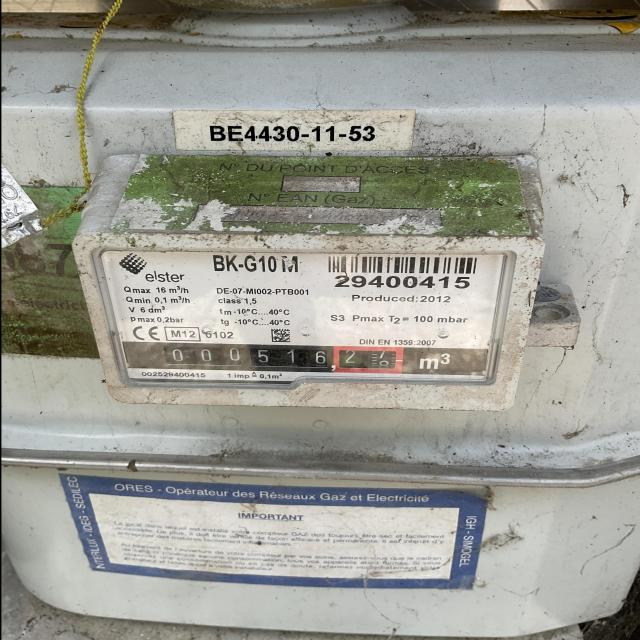gaz_meter: (79, 233, 526, 412)
indication: (122, 342, 490, 375)
